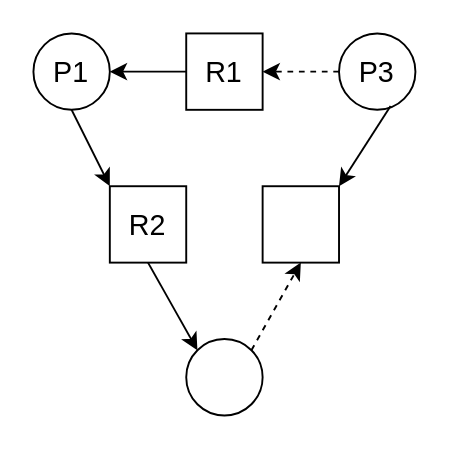
Some shapes in this 449 by 449 pixel diagram are drawn without their labels. The shapes that lost their labels are listed below. From the top down, each one's centre as x and y in pixels, then its label:
At (300,223): "R3".
At (223,376): "P2".
